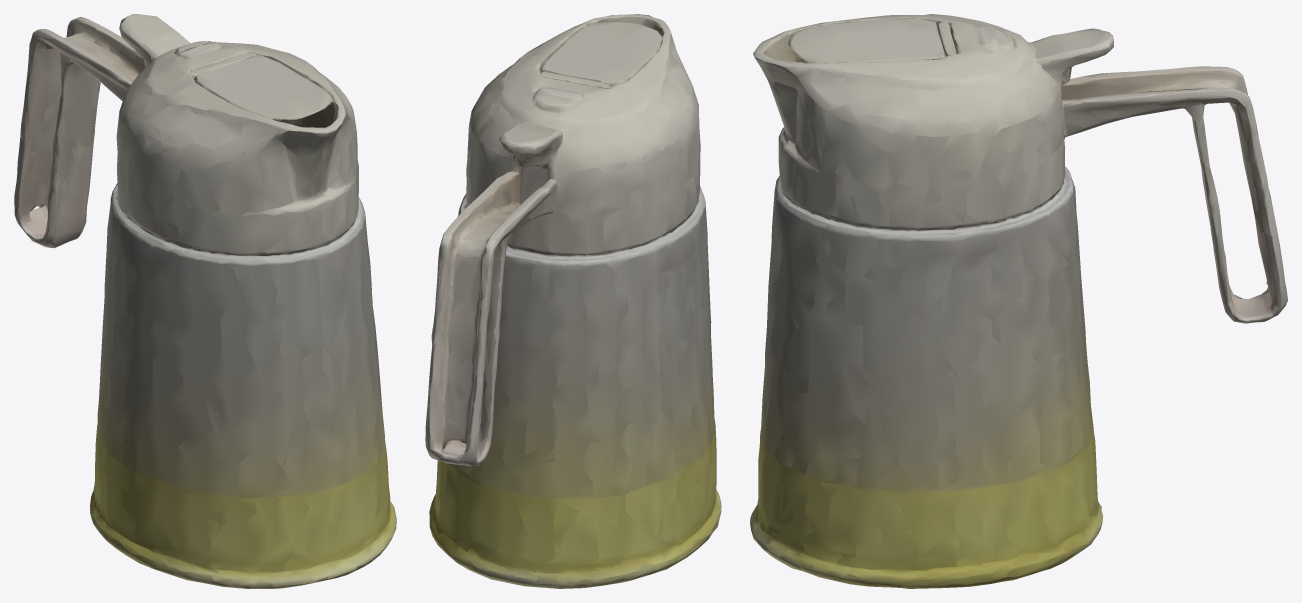
The model's file is 0005_mask_006_oil_bottle.glb.
3 renders of one model, left to right at view 1: azimuth 30°, elevation 25°; view 2: azimuth 150°, elevation 25°; view 3: azimuth 270°, elevation 25°, orthographic. The views are drawn at different scales.
Parts seen in each view (by area): view 1: mask_006_object; view 2: mask_006_object; view 3: mask_006_object.
Part boxes in pixels (<box>): mask_006_object: <box>14,14,396,588</box>; mask_006_object: <box>425,14,721,588</box>; mask_006_object: <box>750,14,1287,588</box>.
Bounding box in the file's own units: 0.1659 × 0.2924 × 0.2902.
